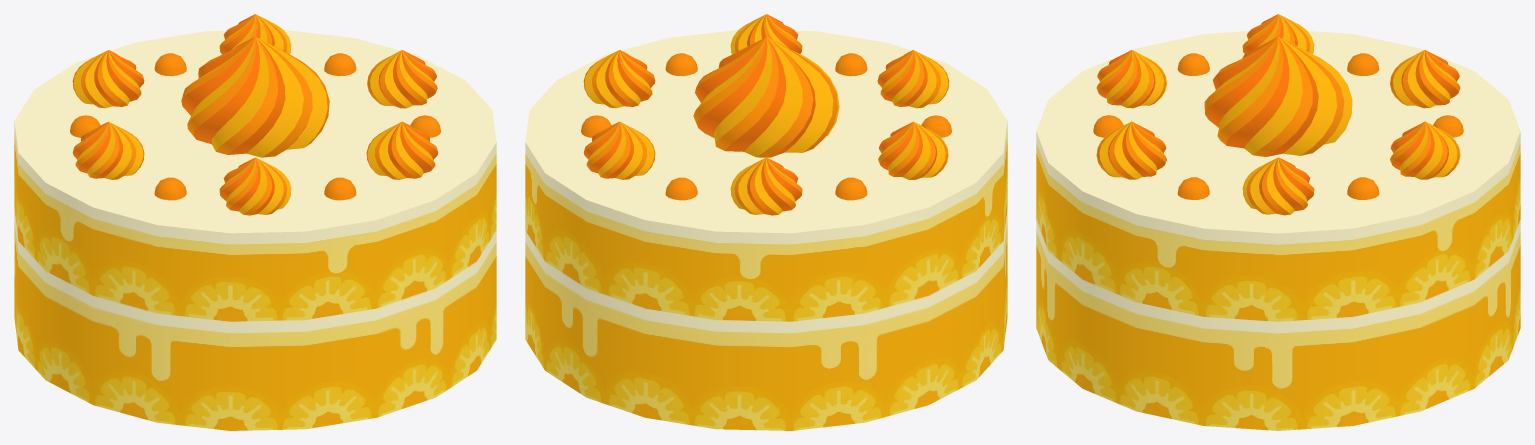
The model's file is cake_gold-transformed.glb.
3 views of the same model, side by side, from view 1: azimuth 30°, elevation 25°; view 2: azimuth 150°, elevation 25°; view 3: azimuth 270°, elevation 25° (orthographic).
Visible parts, largest first — view 1: Whole_Fruit_Cake_0; view 2: Whole_Fruit_Cake_0; view 3: Whole_Fruit_Cake_0.
Boxes of the visible parts, <box> form: Whole_Fruit_Cake_0: <box>14,14,496,430</box>; Whole_Fruit_Cake_0: <box>525,14,1007,430</box>; Whole_Fruit_Cake_0: <box>1036,14,1520,430</box>.
Bounding box in the file's own units: 0.4 × 0.2662 × 0.4.
Materials: 1 (1 with a texture image).
